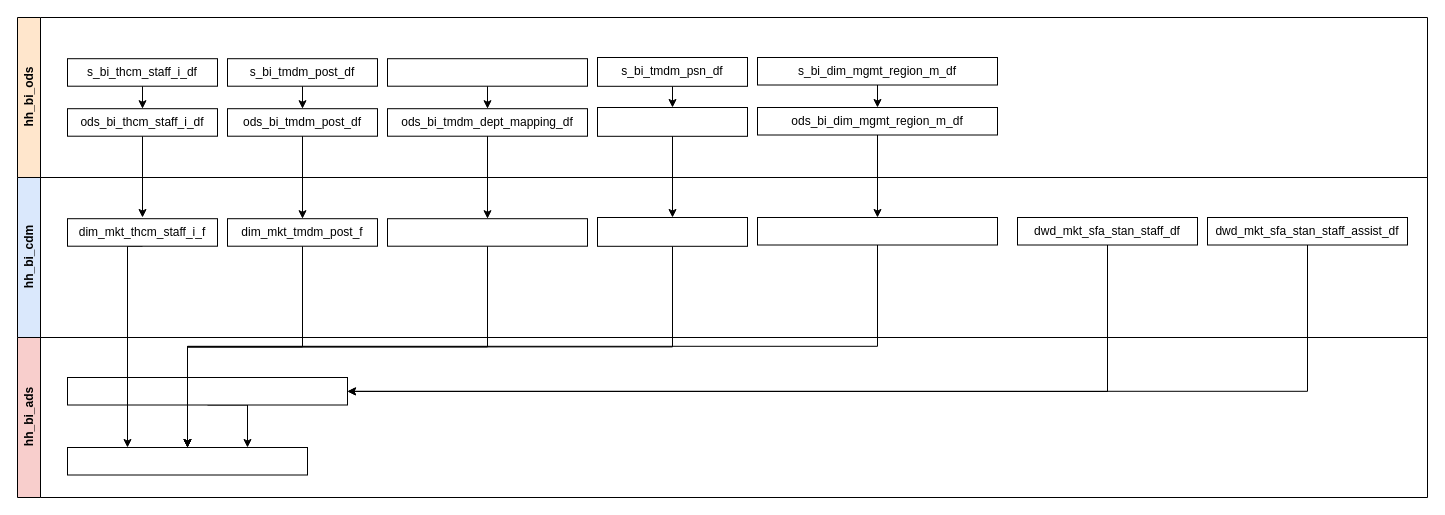
The diagram is 1445 pixels wide and 515 high, and some of its shapes have lost their labels. The centre of each missing label's shape, as x and y in pixels:
ads_mkt_sfa_manager_achievement_f: the point at 187,460
ads_mkt_sfa_personal_achievement_f: the point at 207,390
dim_mkt_dim_mgmt_region_m_f: the point at 877,230
dim_mkt_tmdm_dept_mapping_f: the point at 487,232
dim_mkt_tmdm_psn_f: the point at 672,231
ods_bi_tmdm_psn_df: the point at 672,121
s_bi_tmdm_dept_mapping_df: the point at 487,72
